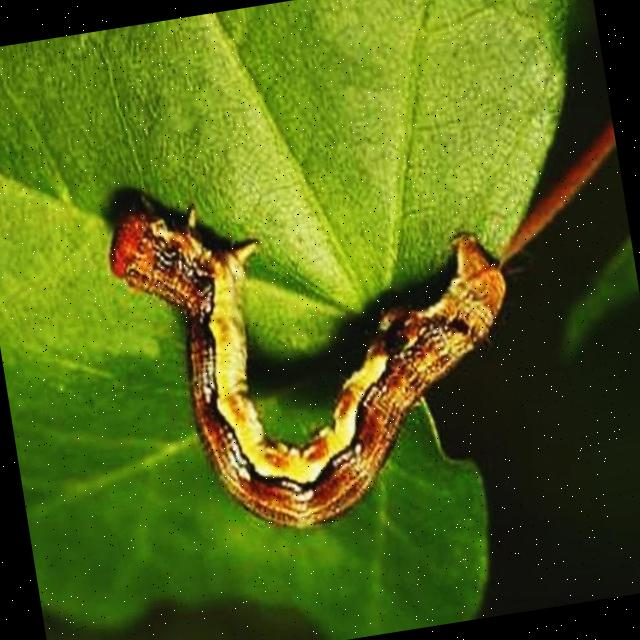worm: (92, 129, 547, 559)
